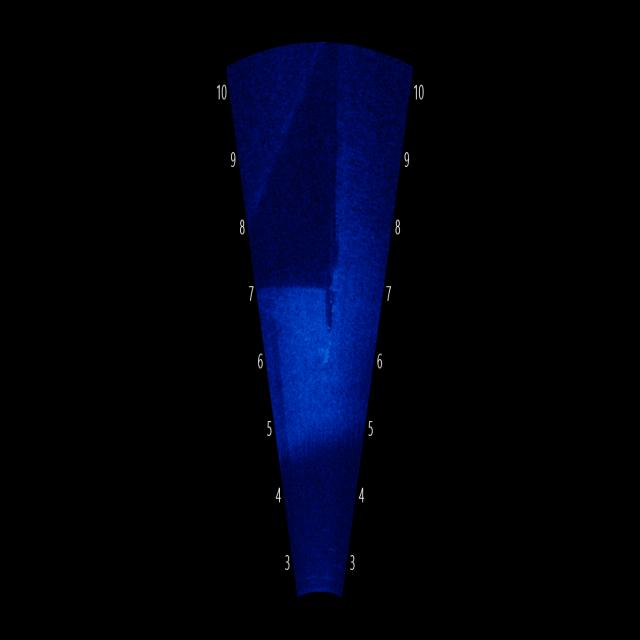triangle: (263, 265, 339, 372)
